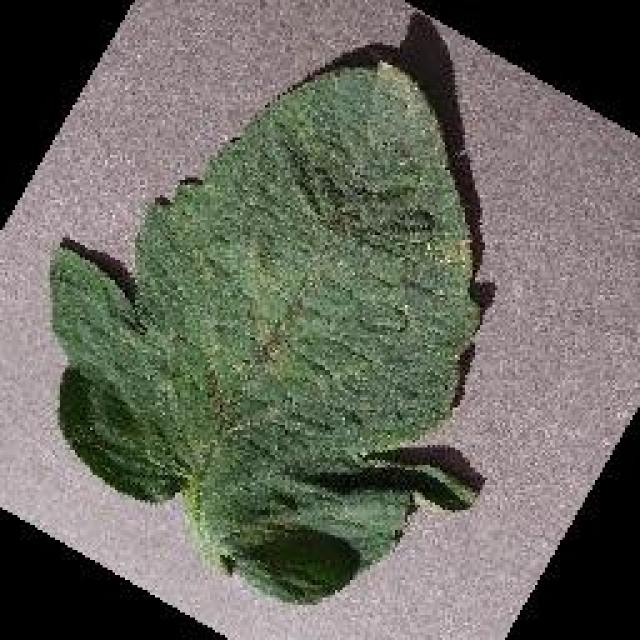Tomato___Target_Spot: (50, 62, 478, 600)
